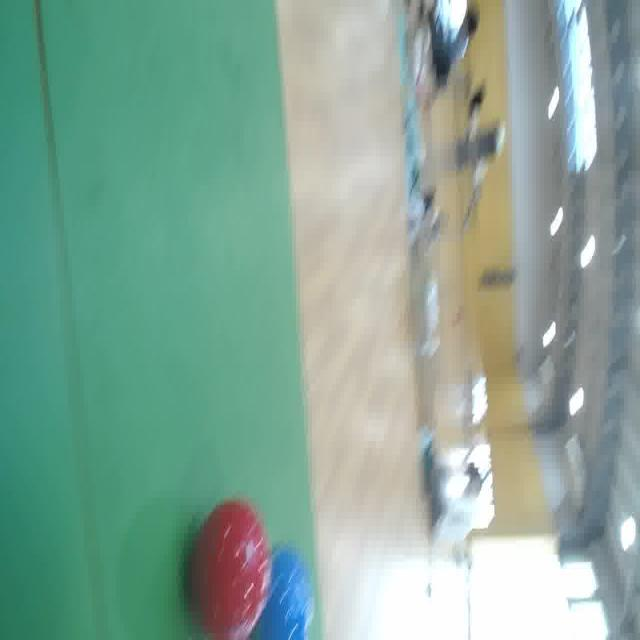blue_ball: (252, 542, 315, 640)
red_ball: (180, 500, 274, 640)
